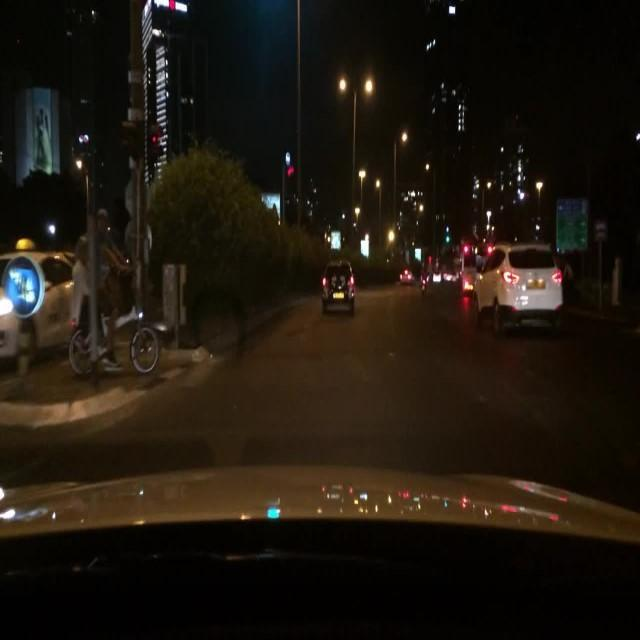normal: (476, 245, 568, 337), (68, 299, 170, 378), (306, 253, 370, 326)
